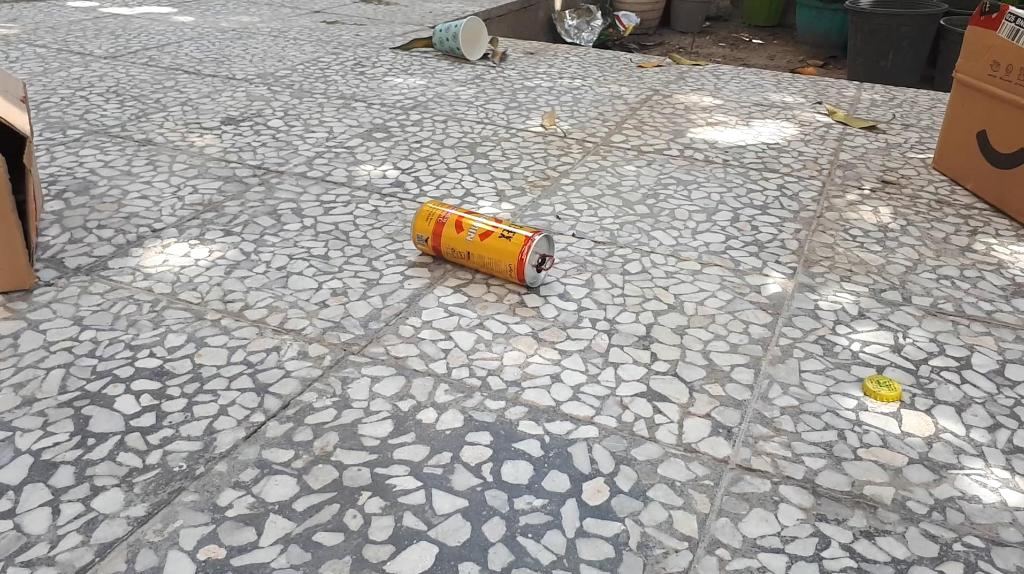garbage: (398, 190, 571, 318), (409, 200, 555, 288), (423, 15, 506, 68)
